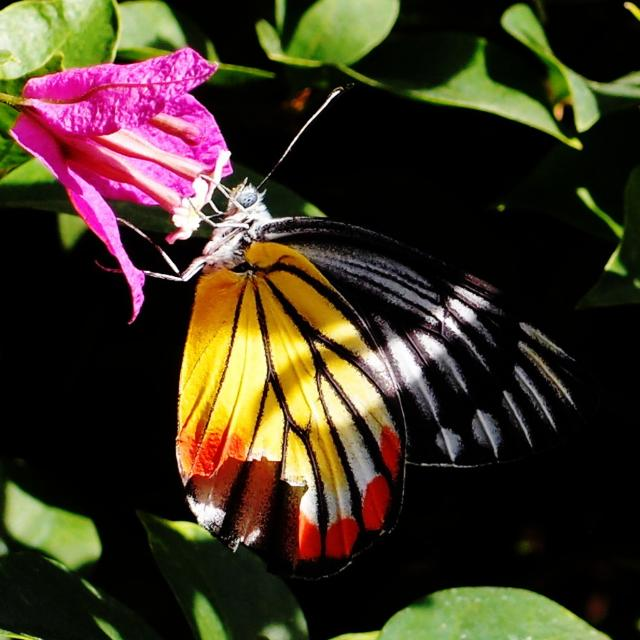Flower: (12, 42, 235, 292)
